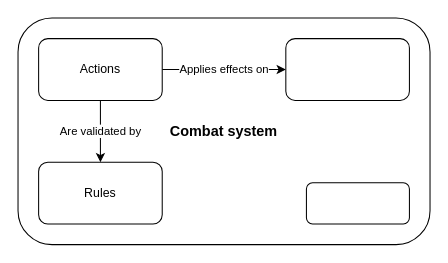
Image size: 448x263. Some labels were removed from this diagram. The box of each missing label's shape, as (x1, y1, x2, y2) in pixels:
Commons: (305, 182, 409, 224)
Entities: (285, 38, 409, 100)
